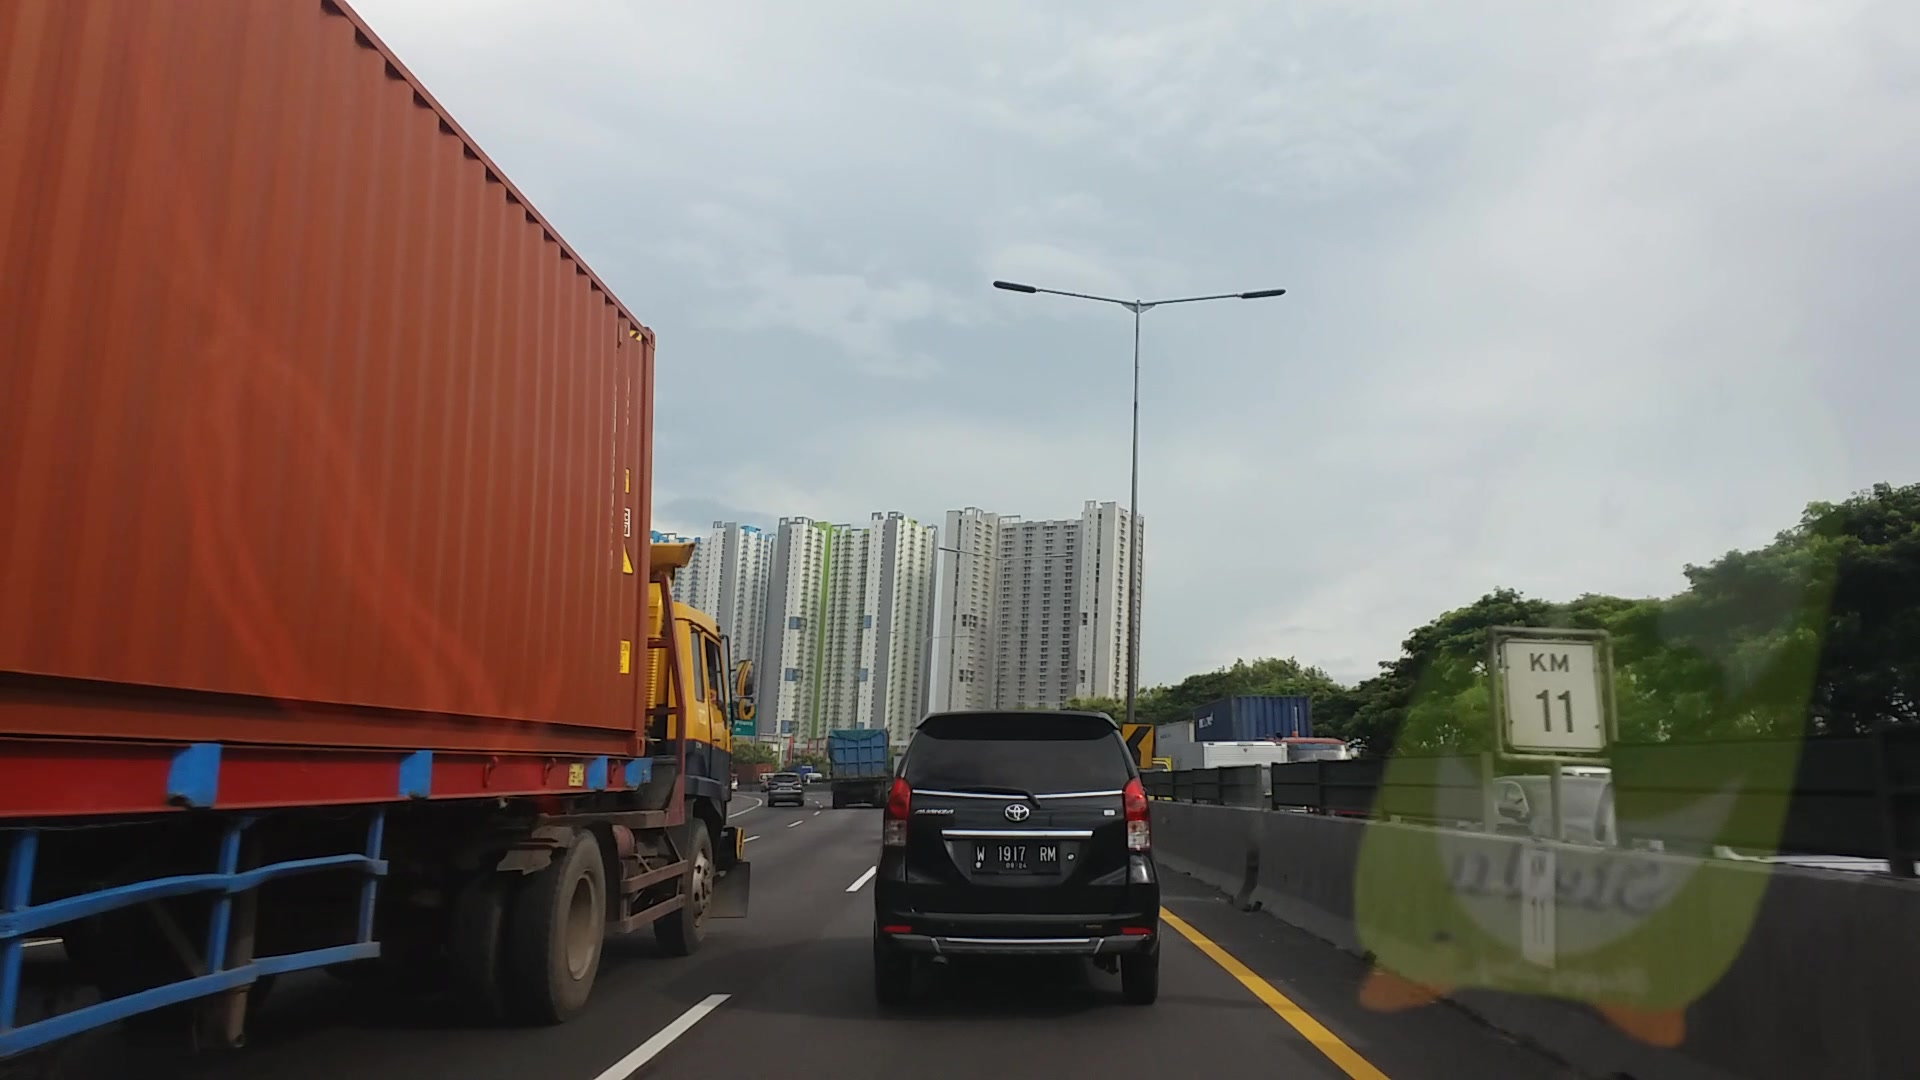plate_positive: (972, 839, 1062, 874)
